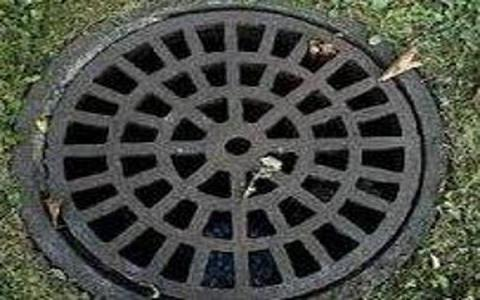proper manhole: (11, 1, 453, 297)
